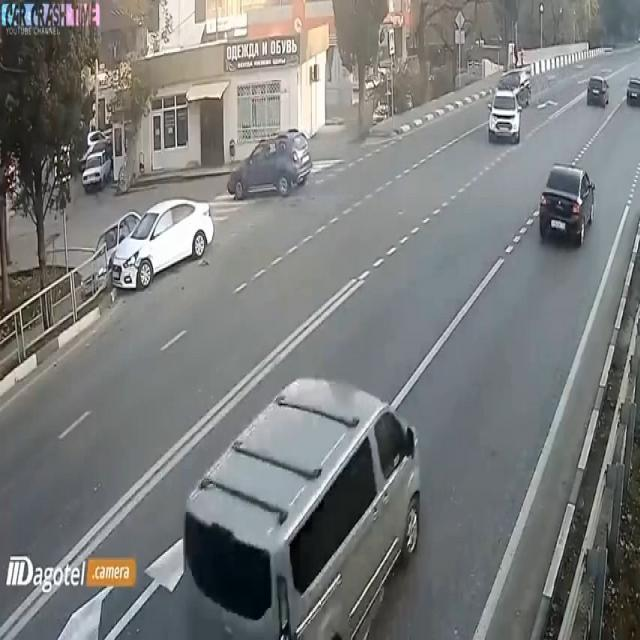Accident: (97, 189, 215, 301)
